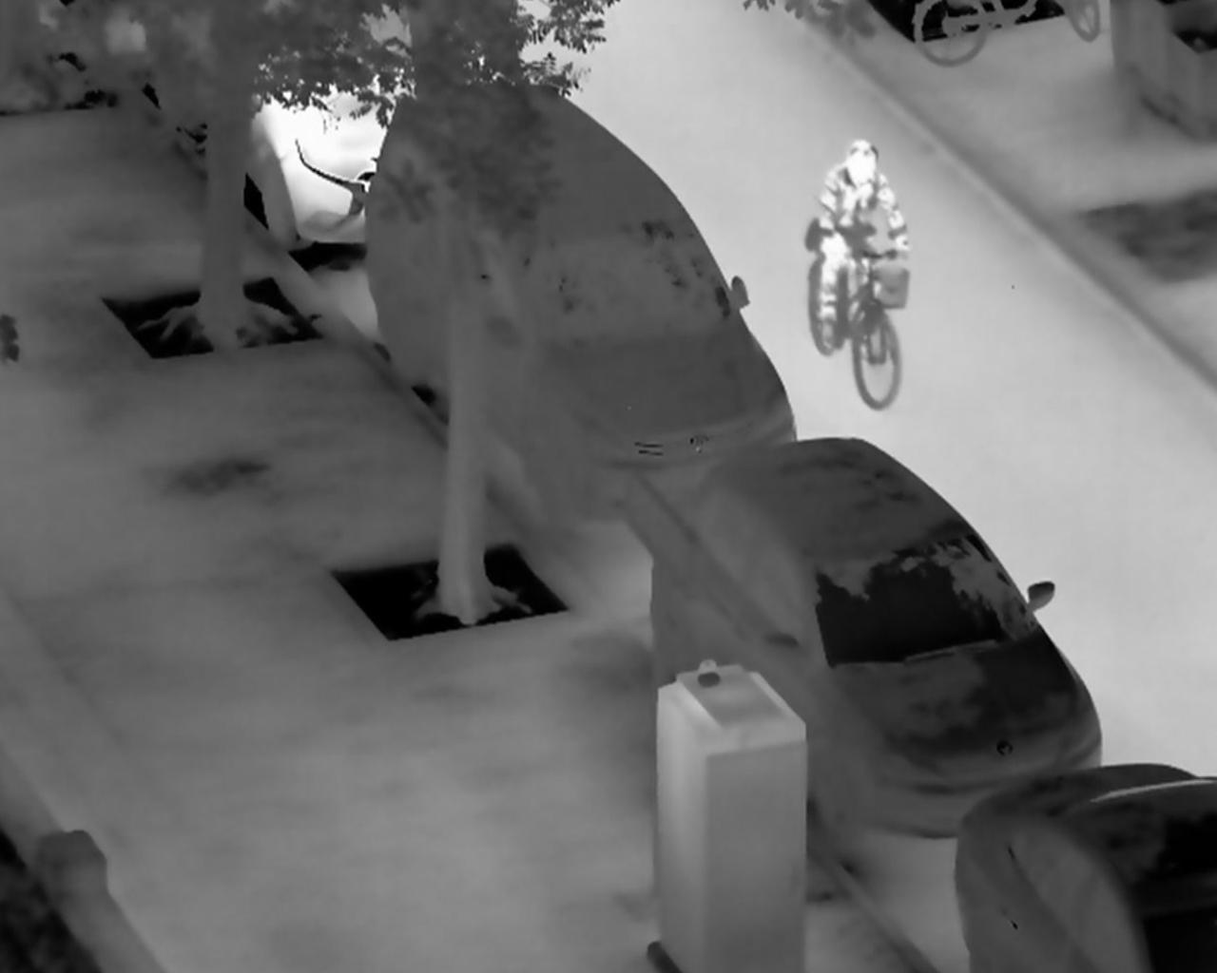person: (818, 133, 912, 358)
